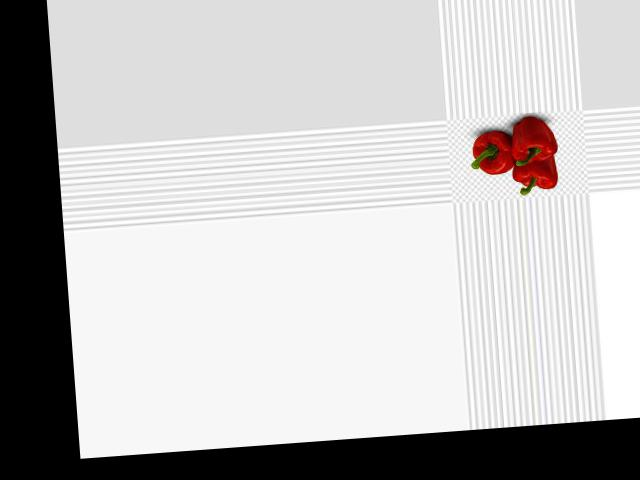bell_pepper: (466, 125, 521, 182)
